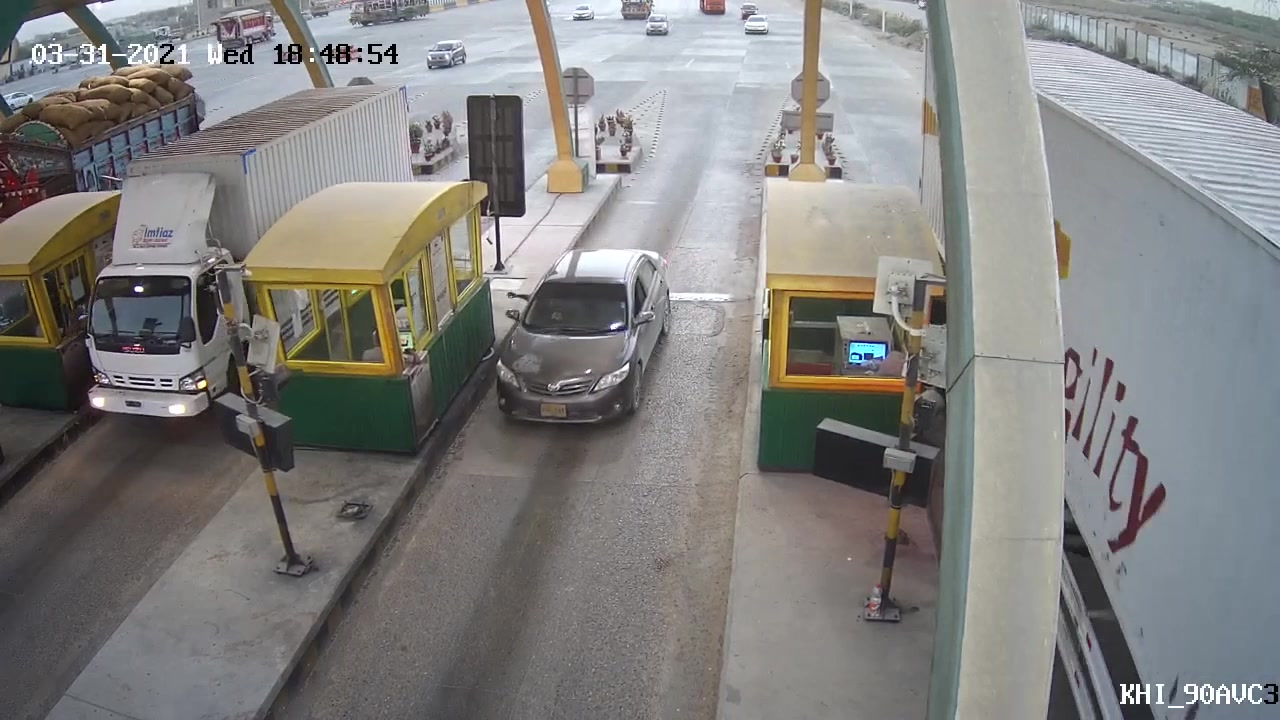F1: (489, 241, 679, 433)
